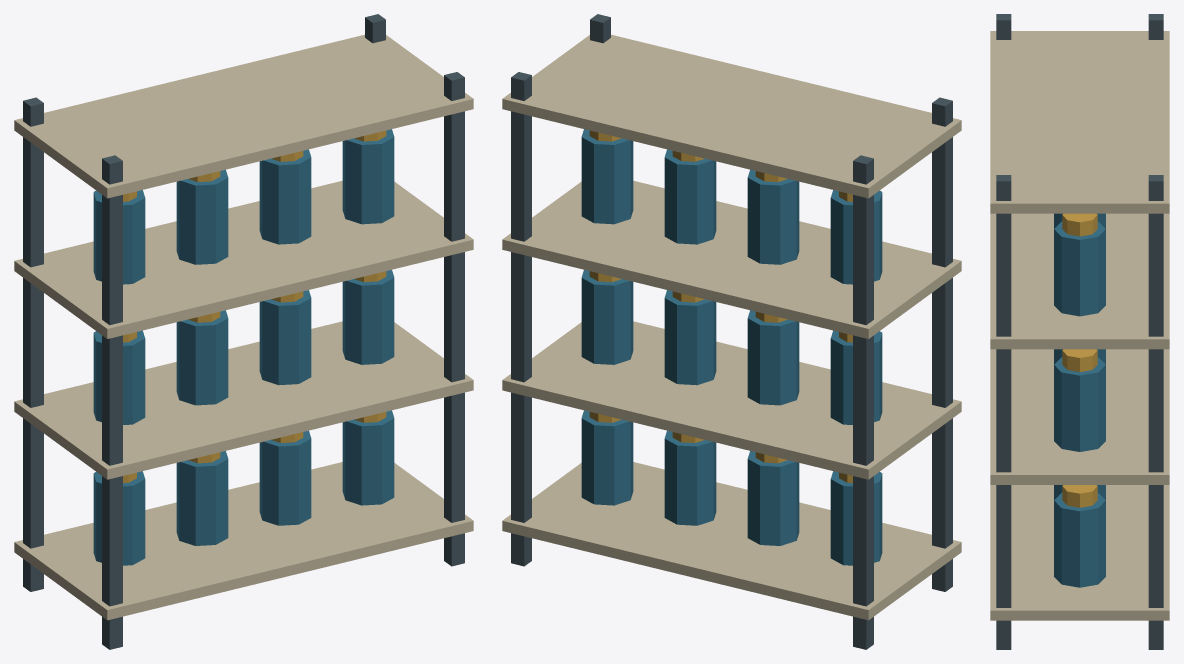
The model's file is sample_rack.glb.
3 views of the same model, side by side, from view 1: azimuth 30°, elevation 25°; view 2: azimuth 150°, elevation 25°; view 3: azimuth 270°, elevation 25° (orthographic). The views are drawn at different scales.
Parts seen in each view (by area): view 1: sample_rack; view 2: sample_rack; view 3: sample_rack.
Boxes of the visible parts, x1,y1,x2,y2 form: sample_rack: [14, 14, 473, 649]; sample_rack: [502, 14, 961, 649]; sample_rack: [990, 14, 1169, 649].
Size of the model in its own units: 1.5 by 1.9 by 0.66.
